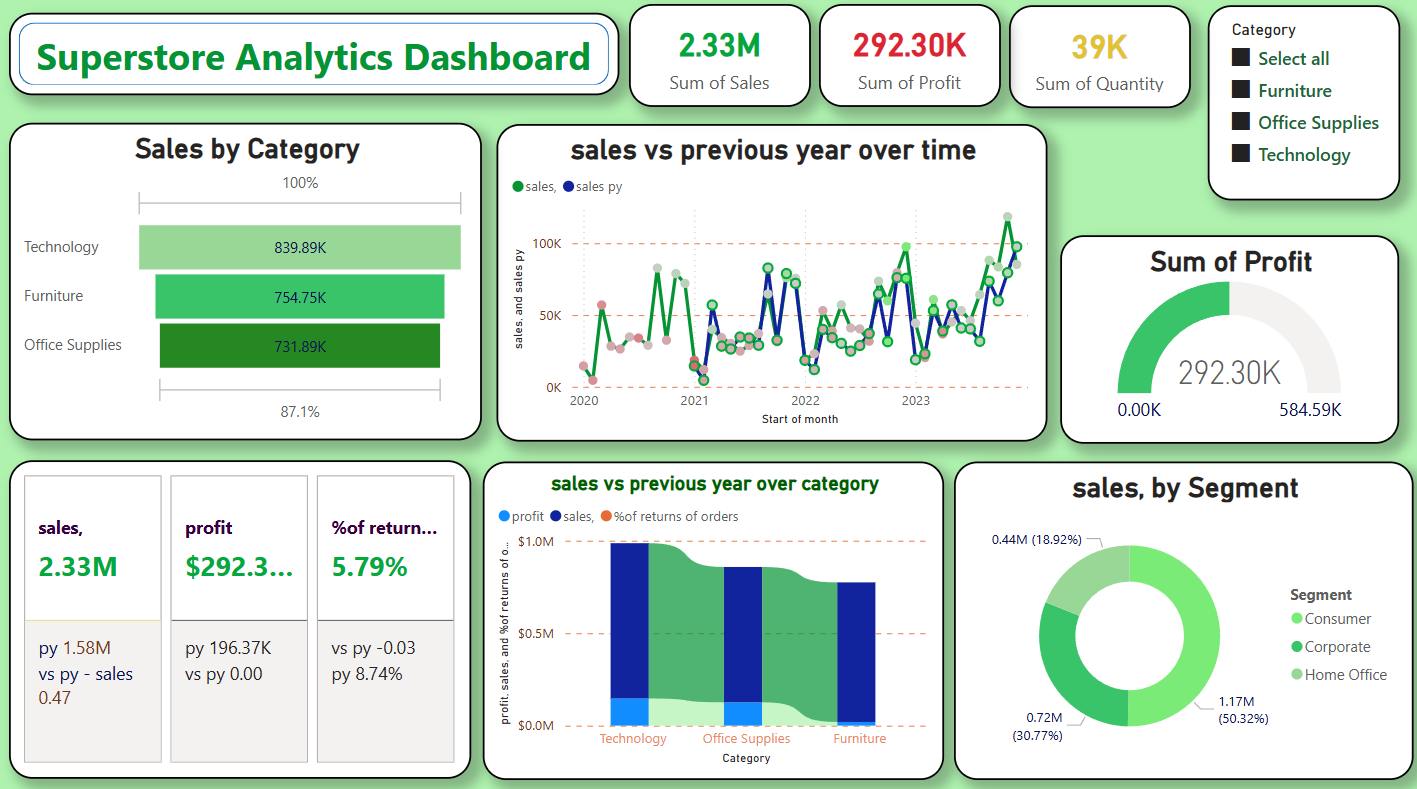

The dashboard page shown, as its layout file describes it:
{"tool":"powerbi","page":{"name":"Page 1","canvas":[1280,720],"ordinal":0},"visuals":[{"type":"cardVisual","fields":{"Data":["key measures.sales,","key measures.profit","key measures.%of returns of orders"]},"box":[8.6,420.7,417,287.4],"z":0},{"type":"lineChart","title":"sales vs previous year over time","fields":{"Y":["key measures.sales,","key measures.sales py"],"Category":["Date Table. Start of month "]},"box":[448.8,117.4,496.5,286.1],"z":1000},{"type":"ribbonChart","title":"sales vs previous year over category","fields":{"Category":["Orders.Category"],"Y":["key measures.profit","key measures.sales,","key measures.%of returns of orders"]},"box":[436.6,421.9,415.8,287.4],"z":2000},{"type":"donutChart","fields":{"Category":["Orders.Segment"],"Y":["key measures.sales,"]},"box":[860.9,421.9,414.5,287.4],"z":3000},{"type":"shape","box":[8.6,17.1,550.3,74.6],"z":4000},{"type":"funnel","fields":{"Category":["Orders.Category"],"Y":["Sum(Orders.Sales)"]},"box":[8.6,116.2,426.8,286.1],"z":5000},{"type":"slicer","fields":{"Values":["Orders.Category"]},"box":[1089.5,9.8,173.6,176.1],"z":6000},{"type":"gauge","fields":{"Y":["Sum(Orders.Profit)"]},"box":[957.5,217.7,305.7,188.3],"z":7000},{"type":"card","fields":{"Values":["Sum(Orders.Sales)"]},"box":[568.6,8.6,163.9,92.9],"z":8000},{"type":"card","fields":{"Values":["Sum(Orders.Quantity)"]},"box":[911,9.8,163.9,92.9],"z":9000},{"type":"card","fields":{"Values":["Sum(Orders.Profit)"]},"box":[739.8,8.6,163.9,92.9],"z":10000}]}

Visuals, with their boxes in screenshot pixels (x1, y1, x2, y2), scaled from the page's 1280x720 canvas onto the 1417x789 screenshot:
cardVisual - key measures.sales, x key measures.profit: detection(10, 461, 471, 776)
"sales vs previous year over time" lineChart: detection(497, 129, 1046, 442)
"sales vs previous year over category" ribbonChart: detection(483, 462, 944, 777)
donutChart - Orders.Segment x key measures.sales,: detection(953, 462, 1412, 777)
shape: detection(10, 19, 619, 100)
funnel - Orders.Category x Sum(Orders.Sales): detection(10, 127, 482, 441)
slicer - Orders.Category: detection(1206, 11, 1398, 204)
gauge - Sum(Orders.Profit): detection(1060, 239, 1398, 445)
card - Sum(Orders.Sales): detection(629, 9, 811, 111)
card - Sum(Orders.Quantity): detection(1009, 11, 1190, 113)
card - Sum(Orders.Profit): detection(819, 9, 1000, 111)
